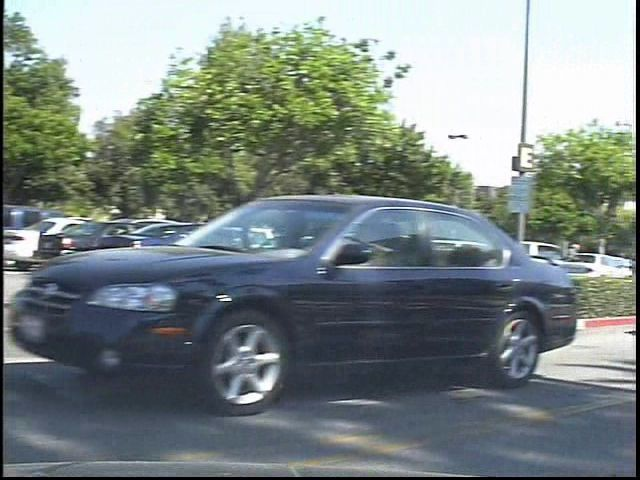person: (572, 234, 599, 291)
